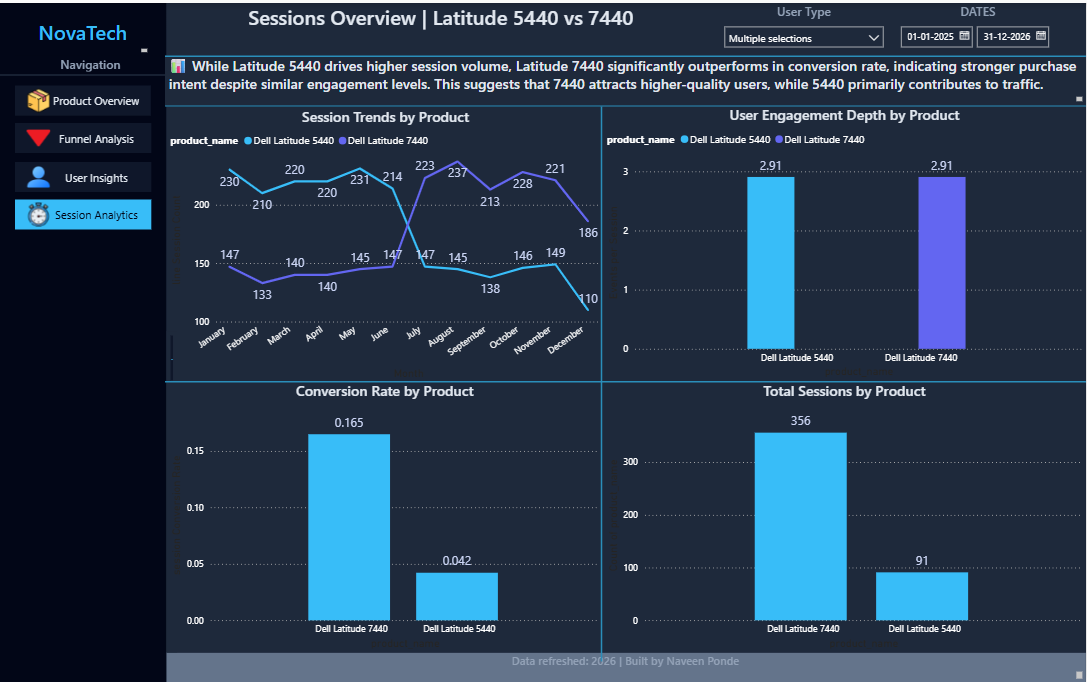

What the dashboard file says about the page in this screenshot:
{"tool":"powerbi","page":{"name":"session","canvas":[1440,900],"ordinal":3},"visuals":[{"type":"shape","box":[0,0,220,900],"z":0},{"type":"textbox","title":"NovaTech","box":[20,20,180,50.2],"z":1000},{"type":"textbox","title":"Navigation","box":[20,70,200,50],"z":2000},{"type":"shape","box":[220,0,1220,70],"z":3000},{"type":"shape","title":"Data refreshed: 2026 | Built by Naveen Ponde","box":[220.7,860.9,1218.8,39.8],"z":4000},{"type":"textbox","title":"Data refreshed: 2026 | Built by Naveen Ponde","box":[218.7,860.9,1220.8,39.8],"z":5000},{"type":"textbox","title":"Sessions Overview | Latitude 5440 vs 7440","box":[324.1,0,526.9,69.6],"z":6000},{"type":"actionButton","title":"Product Overview","box":[20,110,180,40],"z":7000},{"type":"actionButton","title":"Product Overview","box":[20,160,180.9,39.8],"z":8000},{"type":"actionButton","title":"Product Overview","box":[20,210,180.9,39.8],"z":9000},{"type":"actionButton","title":"Product Overview","box":[20,260,180.9,39.8],"z":10000},{"type":"slicer","title":"User Type","fields":{"Values":["users.user_segment"]},"box":[950,0,230.6,69.6],"z":11000},{"type":"slicer","title":"DATES","fields":{"Values":["DateTable.Date"]},"box":[1181,0,230.6,69.6],"z":12000},{"type":"shape","box":[0,81.5,220.7,27.8],"z":13000},{"type":"lineChart","title":"Session Trends by Product","fields":{"Series":["products.product_name"],"Category":["events.event_timestamp.Variation.Date Hierarchy.Month"],"Y":["sessions.line Session Count"]},"box":[220.7,137.2,580.6,365.8],"z":14000},{"type":"clusteredColumnChart","title":"User Engagement Depth by Product","fields":{"Series":["orders.product_name"],"Category":["orders.product_name"],"Y":["events.Events per Session"]},"box":[799.3,135.2,640.2,365.8],"z":15000},{"type":"pivotTable","fields":{"Columns":["events.event_timestamp.Variation.Date Hierarchy.Month"],"Values":["Count(events.user_id)"],"Rows":["events.event_name"]},"box":[220.7,435.4,13.9,425.5],"z":16000},{"type":"clusteredColumnChart","title":"Conversion Rate by Product","fields":{"Category":["products.product_name"],"Y":["orders.session Conversion Rate"]},"box":[220.7,501,578.6,359.9],"z":16001},{"type":"clusteredColumnChart","title":"Total Sessions by Product","fields":{"Category":["products.product_name"],"Y":["CountNonNull(orders.product_name)"]},"box":[799.3,501,640.2,359.9],"z":16002},{"type":"shape","box":[218.7,125.3,1220.8,21.9],"z":16003},{"type":"shape","box":[218.7,491.1,1220.8,21.9],"z":16004},{"type":"shape","box":[793.3,137.2,8,735.7],"z":16005},{"type":"textbox","title":"📊 While Latitude 5440 drives higher session volume, Latitude 7440 significantly outperforms in conversion rate, indicating stronger purchase intent despite similar engagement levels. This suggests tha","box":[218.7,69.6,1220.8,65.6],"z":16006},{"type":"shape","box":[218.7,59.6,1220.8,21.9],"z":16007}]}

Visuals, with their boxes on the page's 1440x900 design canvas (x1, y1, x2, y2). These are canvas units, not pixel positions in the 1087x682 screenshot, which may show the page scaled, cropped or inside an application window:
shape: (0,0,220,900)
"NovaTech" textbox: (20,20,200,70)
"Navigation" textbox: (20,70,220,120)
shape: (220,0,1440,70)
"Data refreshed: 2026 | Built by Naveen Ponde" shape: (221,861,1440,901)
"Data refreshed: 2026 | Built by Naveen Ponde" textbox: (219,861,1440,901)
"Sessions Overview | Latitude 5440 vs 7440" textbox: (324,0,851,70)
"Product Overview" actionButton: (20,110,200,150)
"Product Overview" actionButton: (20,160,201,200)
"Product Overview" actionButton: (20,210,201,250)
"Product Overview" actionButton: (20,260,201,300)
"User Type" slicer: (950,0,1181,70)
"DATES" slicer: (1181,0,1412,70)
shape: (0,82,221,109)
"Session Trends by Product" lineChart: (221,137,801,503)
"User Engagement Depth by Product" clusteredColumnChart: (799,135,1440,501)
pivotTable - events.event_timestamp.Variation.Date Hierarchy.Month x Count(events.user_id): (221,435,235,861)
"Conversion Rate by Product" clusteredColumnChart: (221,501,799,861)
"Total Sessions by Product" clusteredColumnChart: (799,501,1440,861)
shape: (219,125,1440,147)
shape: (219,491,1440,513)
shape: (793,137,801,873)
"📊 While Latitude 5440 drives higher session volume, Latitude 7440 significantly outperforms in conversion rate, indicating stronger purchase intent despite similar engagement levels. This suggests tha" textbox: (219,70,1440,135)
shape: (219,60,1440,82)
